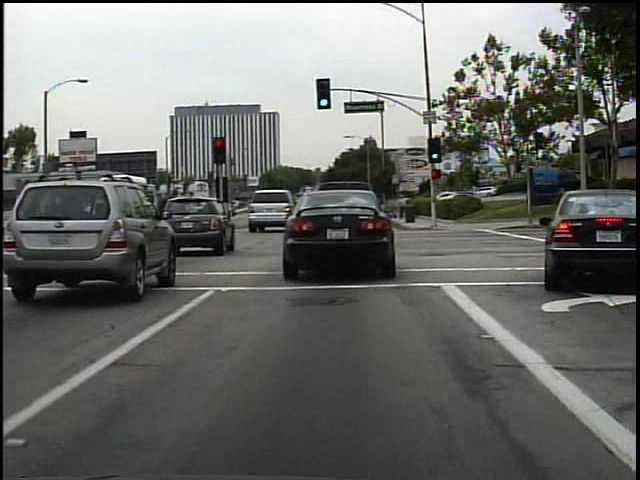person: (397, 192, 408, 222)
